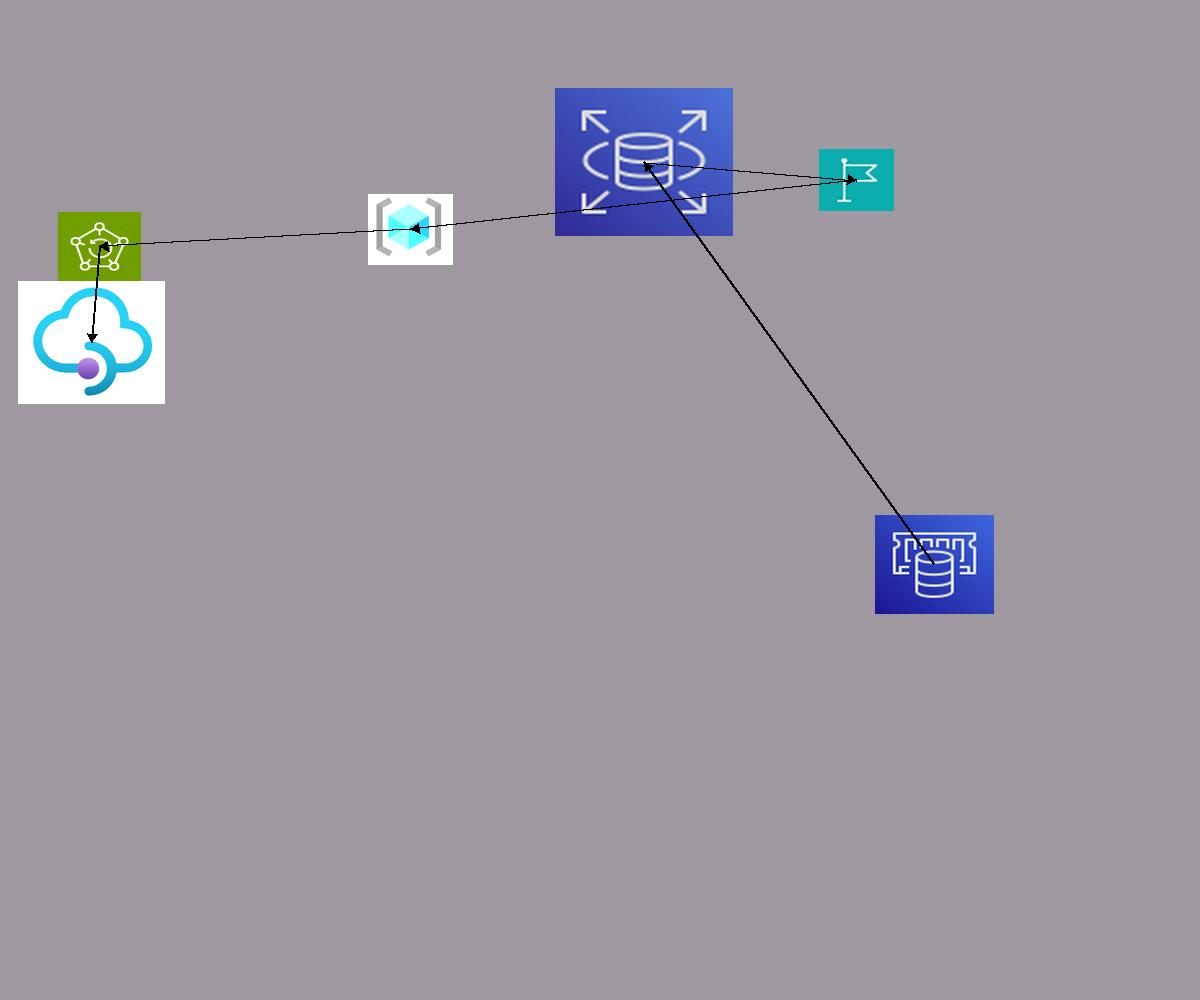AWS-Backup: (58, 212, 141, 281)
AWS-ElastiCache: (875, 515, 994, 614)
AWS-RDS: (555, 88, 733, 236)
AWS-Region: (819, 149, 894, 211)
Azure_api_gateway: (18, 281, 165, 404)
Azure_resource_group: (368, 194, 453, 265)
